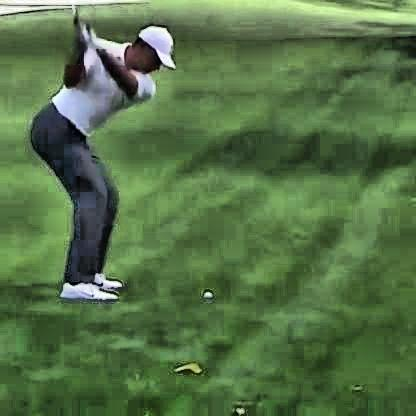golfball: (202, 281, 212, 294)
